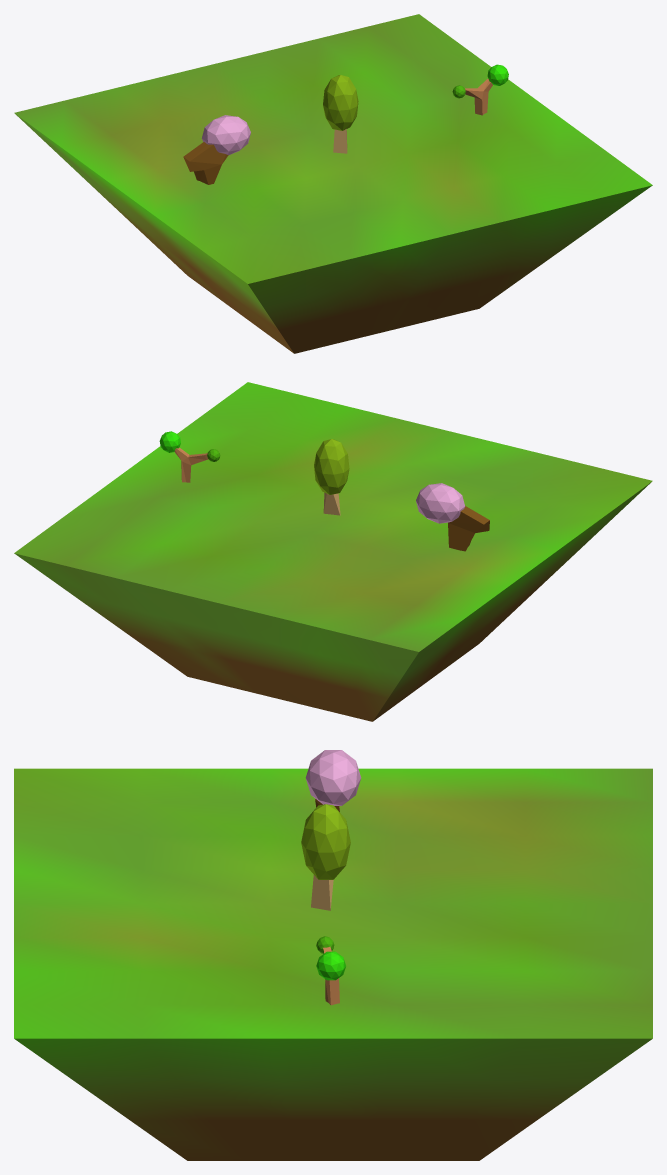
3 renders of one model, top to bottom at view 1: azimuth 30°, elevation 25°; view 2: azimuth 150°, elevation 25°; view 3: azimuth 270°, elevation 25°, orthographic. The views are drawn at different scales.
Parts seen in each view (by area): view 1: Base.004, Tree3 - 1.002, Tree2 - 1.002, Tree1 - 1.002; view 2: Base.004, Tree3 - 1.002, Tree2 - 1.002, Tree1 - 1.002; view 3: Base.004, Tree2 - 1.002, Tree3 - 1.002, Tree1 - 1.002.
Part boxes in pixels (box(x1,y1,x2,y2)): Base.004: box(14, 14, 652, 353); Tree3 - 1.002: box(183, 115, 250, 184); Tree2 - 1.002: box(323, 75, 358, 153); Tree1 - 1.002: box(452, 64, 508, 115); Base.004: box(14, 382, 652, 721); Tree3 - 1.002: box(416, 483, 489, 551); Tree2 - 1.002: box(314, 439, 349, 515); Tree1 - 1.002: box(159, 431, 220, 482); Base.004: box(14, 768, 652, 1160); Tree2 - 1.002: box(301, 804, 350, 910); Tree3 - 1.002: box(305, 750, 361, 811); Tree1 - 1.002: box(316, 936, 345, 1005).
Bounding box in the file's own units: 14.36 × 7.39 × 14.36.
